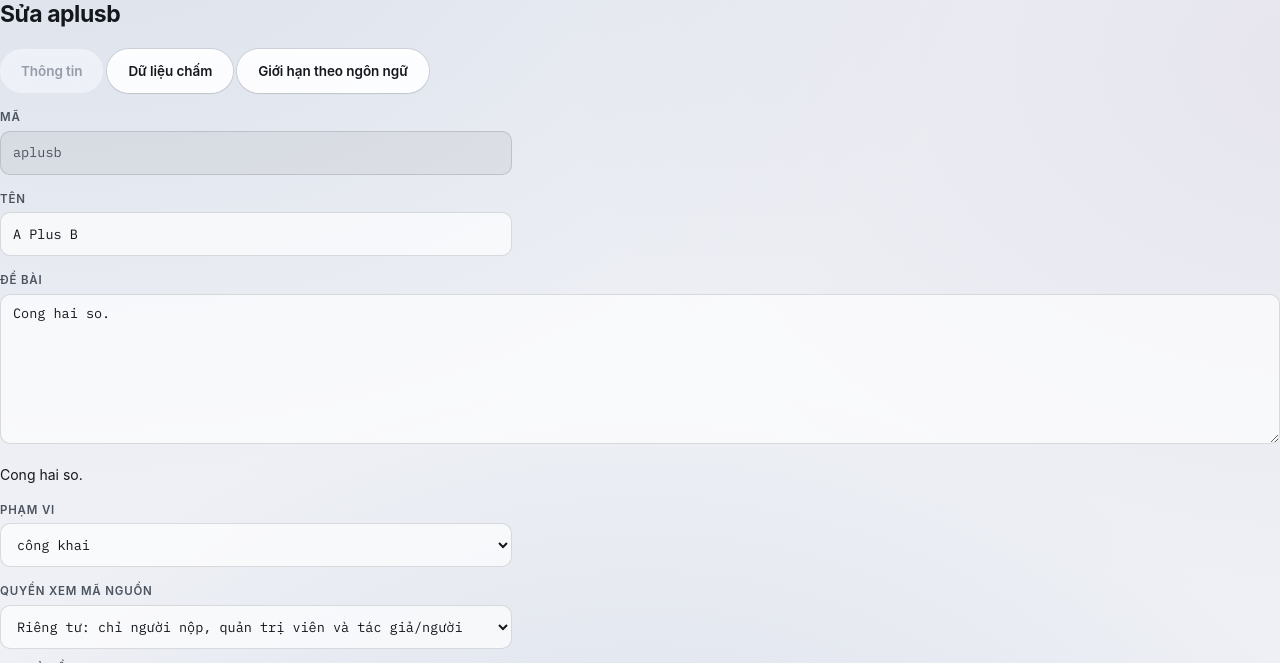
Test: the problem edit form while somebody else is saving (D161) › sends the version it was seeded with, and offers the newer one when the save is refused
The image size is (1280, 663).
# The typo fix that used to destroy a colleague's rewrite.
Replace the text in the field labelled "Tên" with "A + B" at (256, 234), box [0,212,512,256]
(page scrolled)
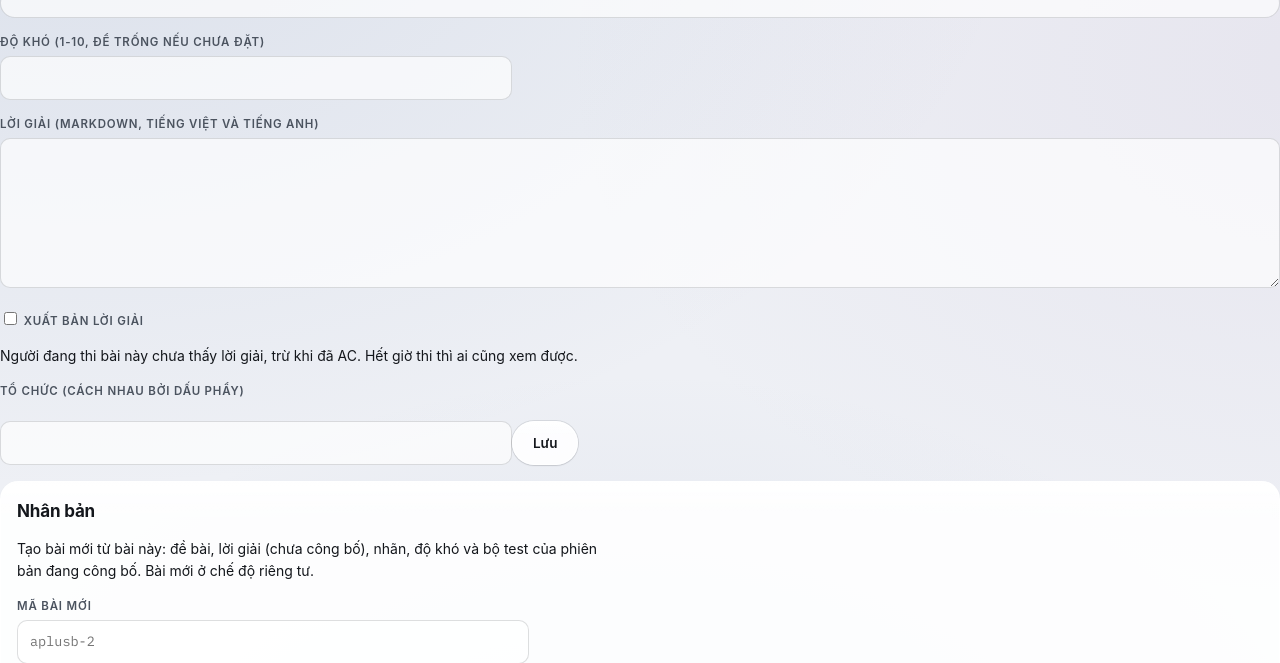
Click the button "Lưu" at (545, 443), box [512,421,578,465]
(page scrolled)
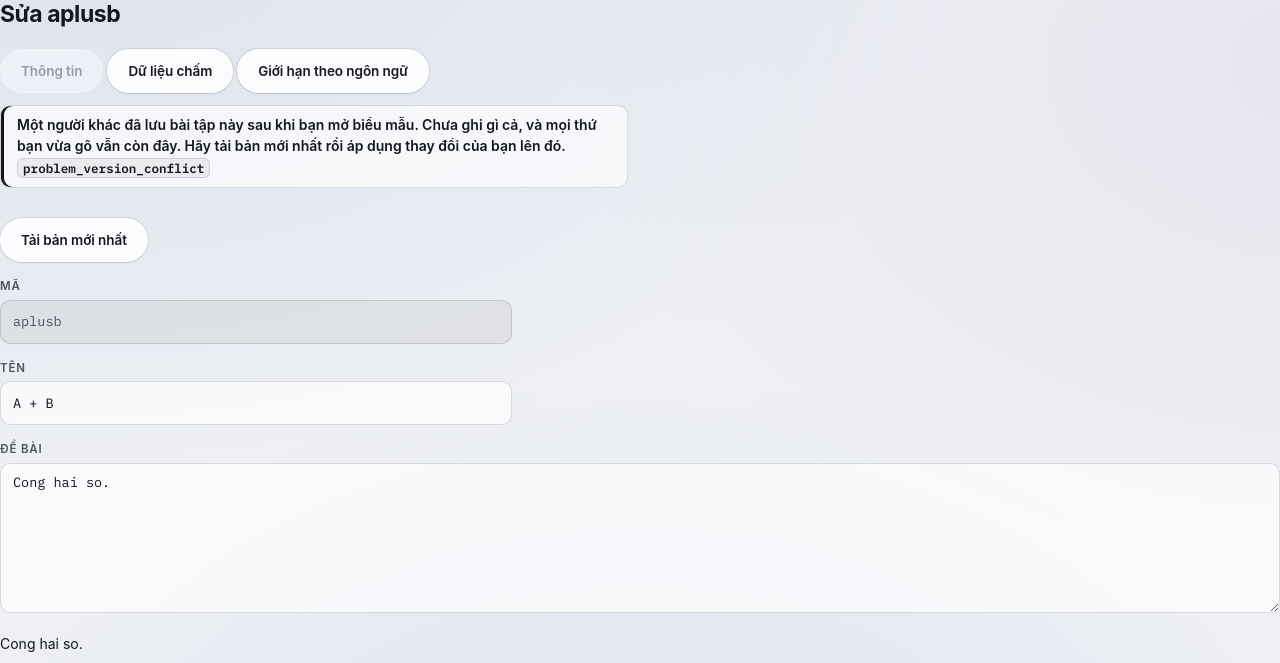
Now the text "Một người khác đã lưu bài tập này" is shown, box [17,116,597,154]
Click the button "Tải bản mới nhất" at (74, 240), box [0,218,148,262]
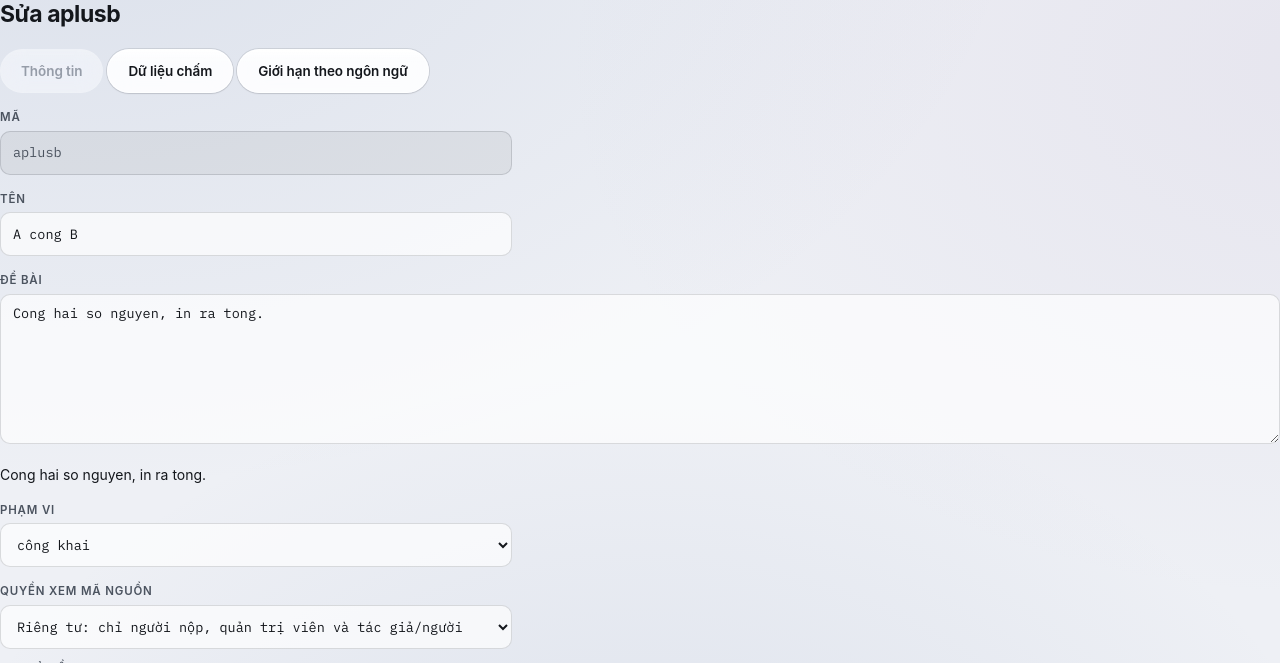
Now the field labelled "Tên" holds "A cong B", box [0,212,512,256]
Now the text box labelled "Đề bài" holds "Cong hai so nguyen, in ra tong.", box [0,294,1279,444]
Now the message "Tải bản mới nhất" is gone
